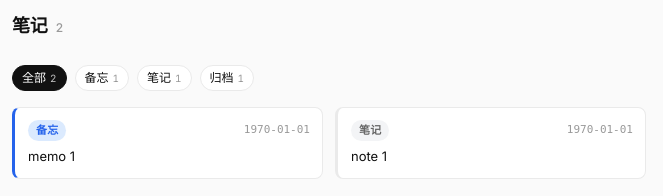
Test: NotesSection › clicking archived chip swaps rendered list to archivedNotes (active rows hidden)
Click the button "归档 1": (227,78) [200, 65, 254, 91]
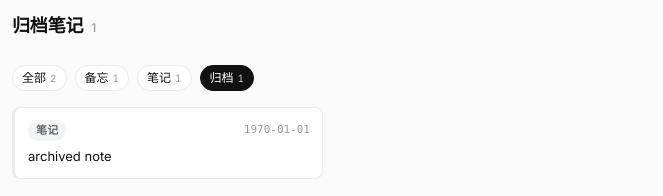
Check: the text "archived note" is shown, box [28, 148, 112, 164]
Check: the button "note 1" is gone
Check: the button "memo 1" is gone
